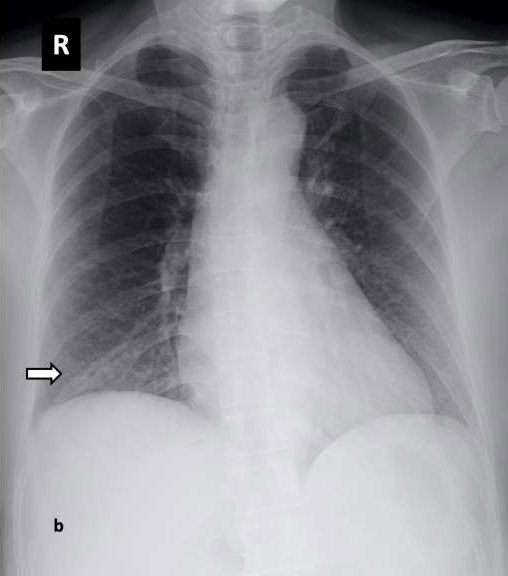Mildw: (283, 45, 461, 417), (40, 45, 215, 408)
